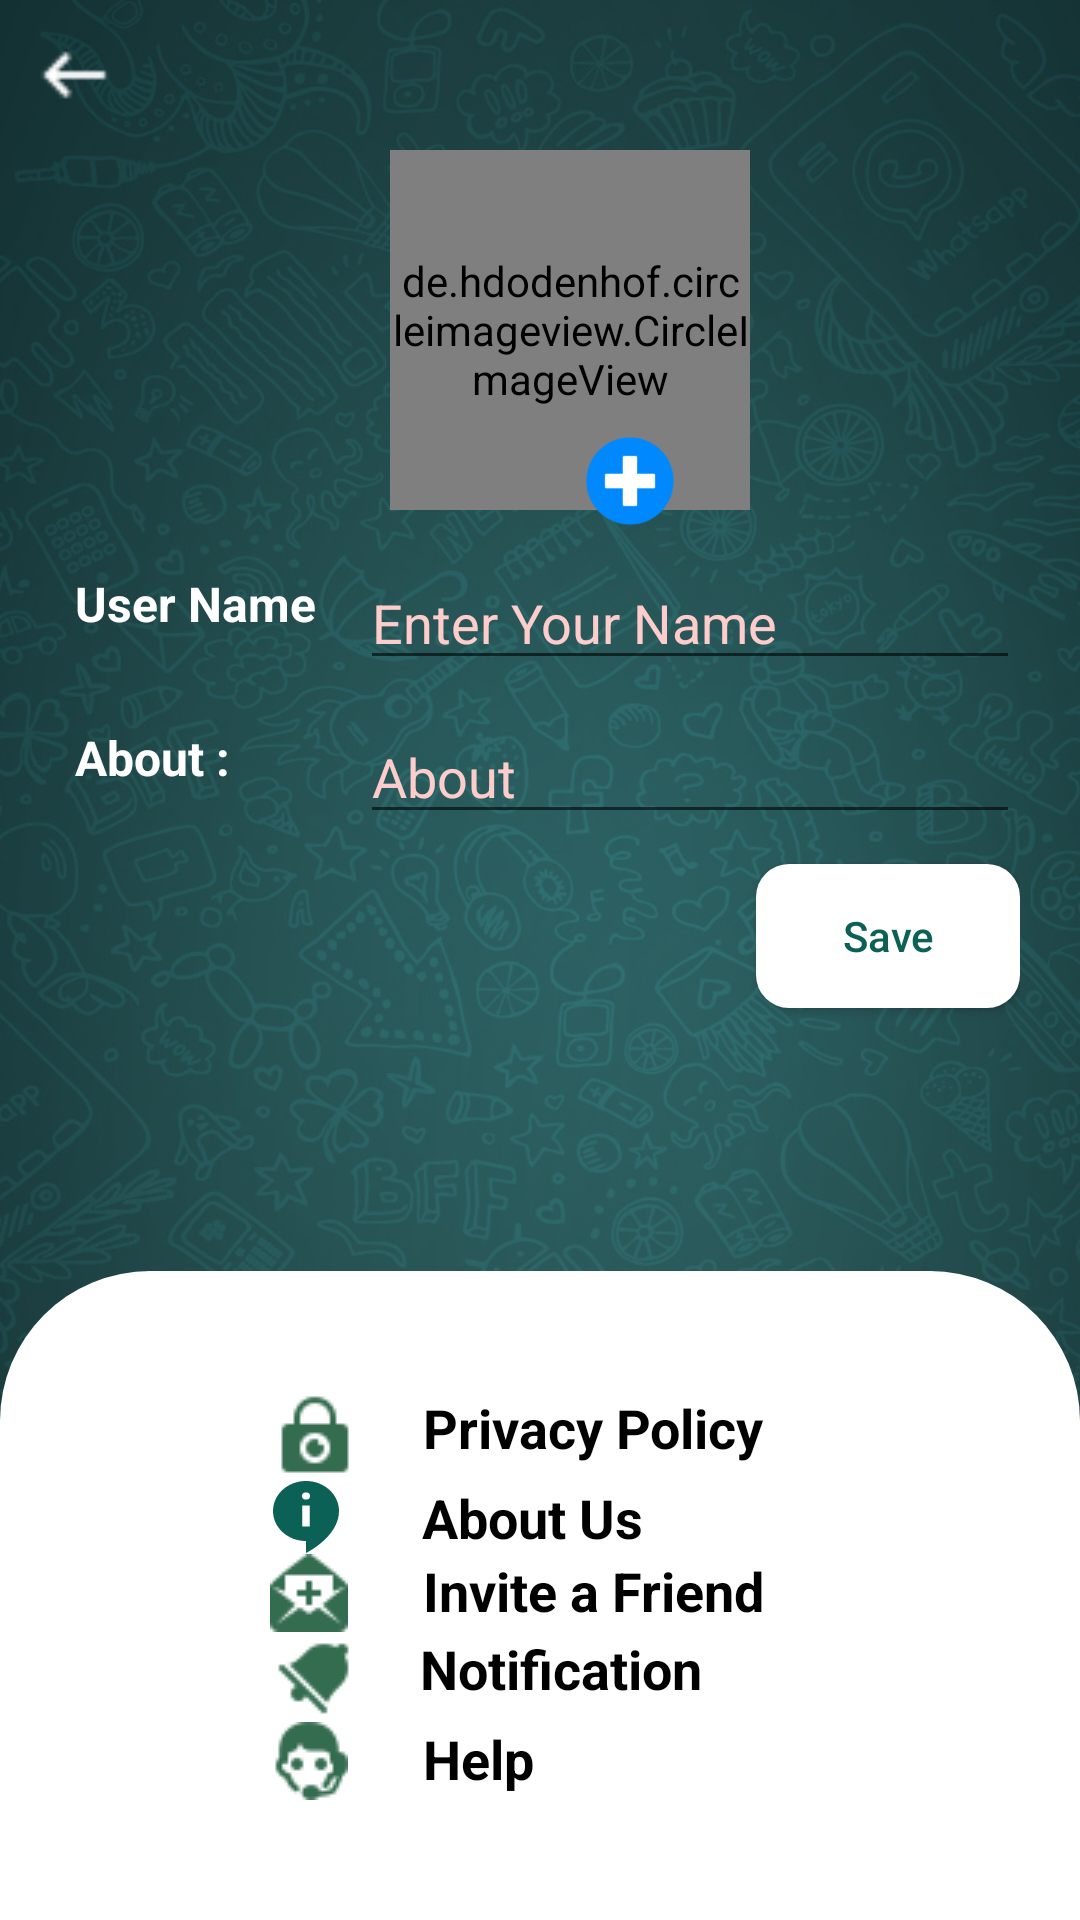

Where icons sit on this 1080 × 1920 app screen, as (x1, y1, x2, y2):
leftarrowwhite: (43, 51, 107, 99)
plus: (585, 437, 675, 526)
